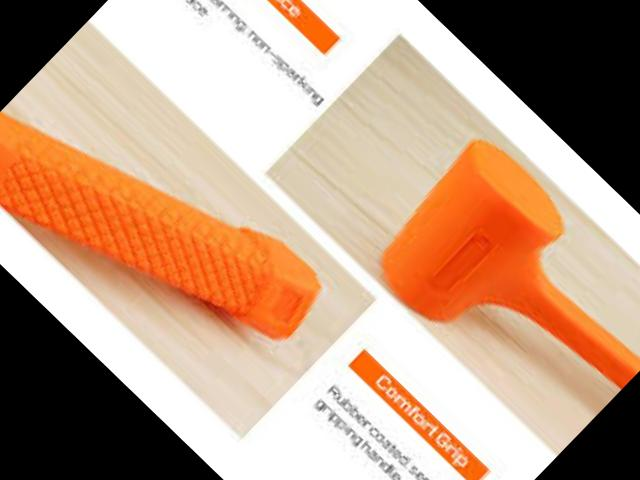hammer: (357, 127, 640, 453)
